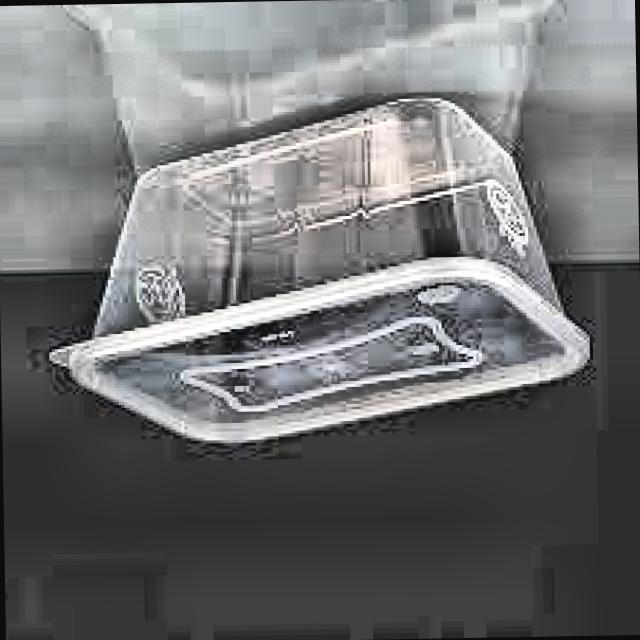plastic container: (51, 97, 588, 442)
